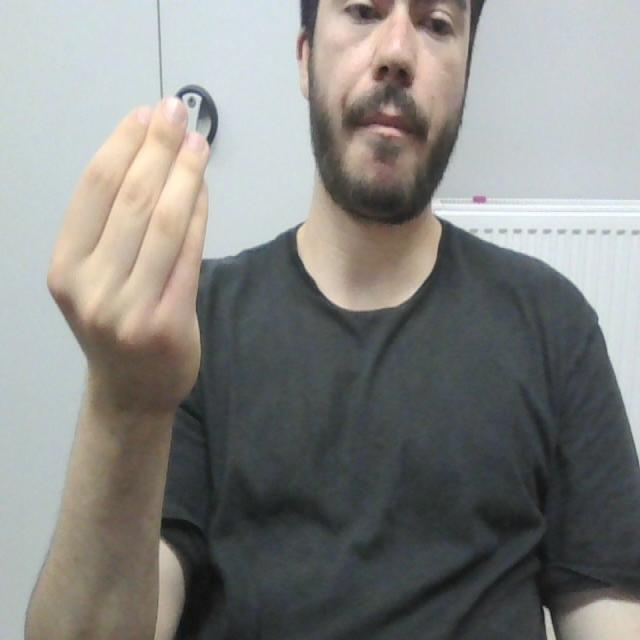iyi: (56, 98, 220, 332)
